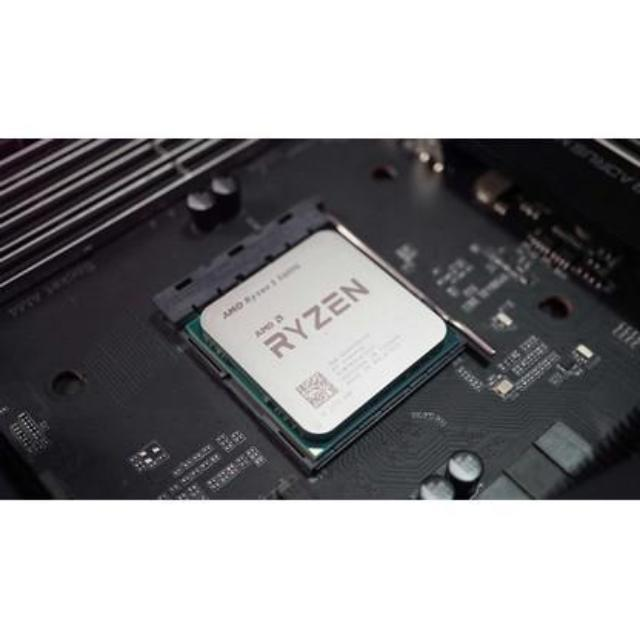CPU: (197, 230, 449, 441)
